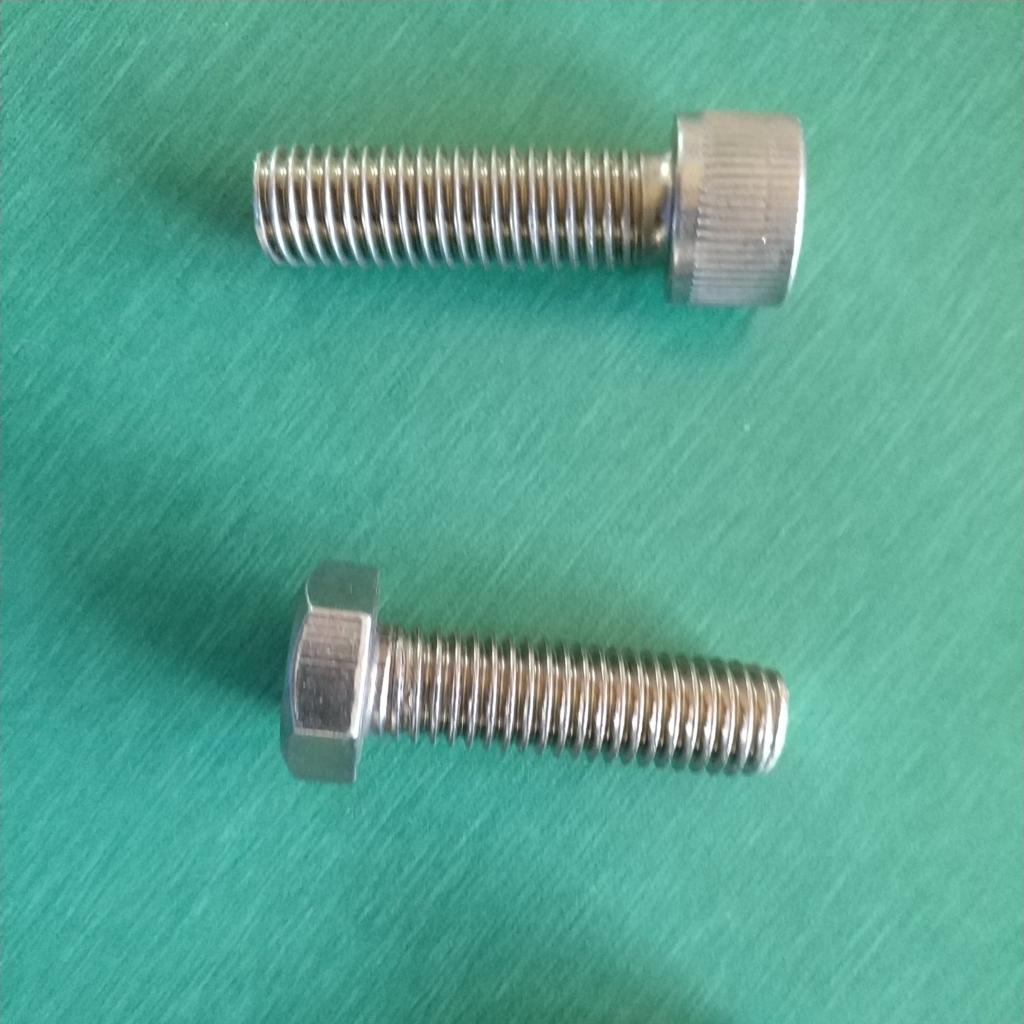screwtype1silver: (236, 99, 812, 317)
screwtype2silver: (266, 542, 792, 802)
